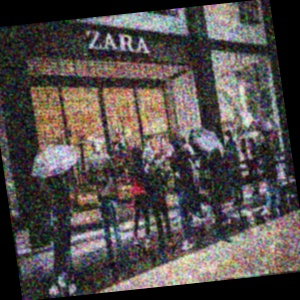zara: (99, 8, 197, 22)
